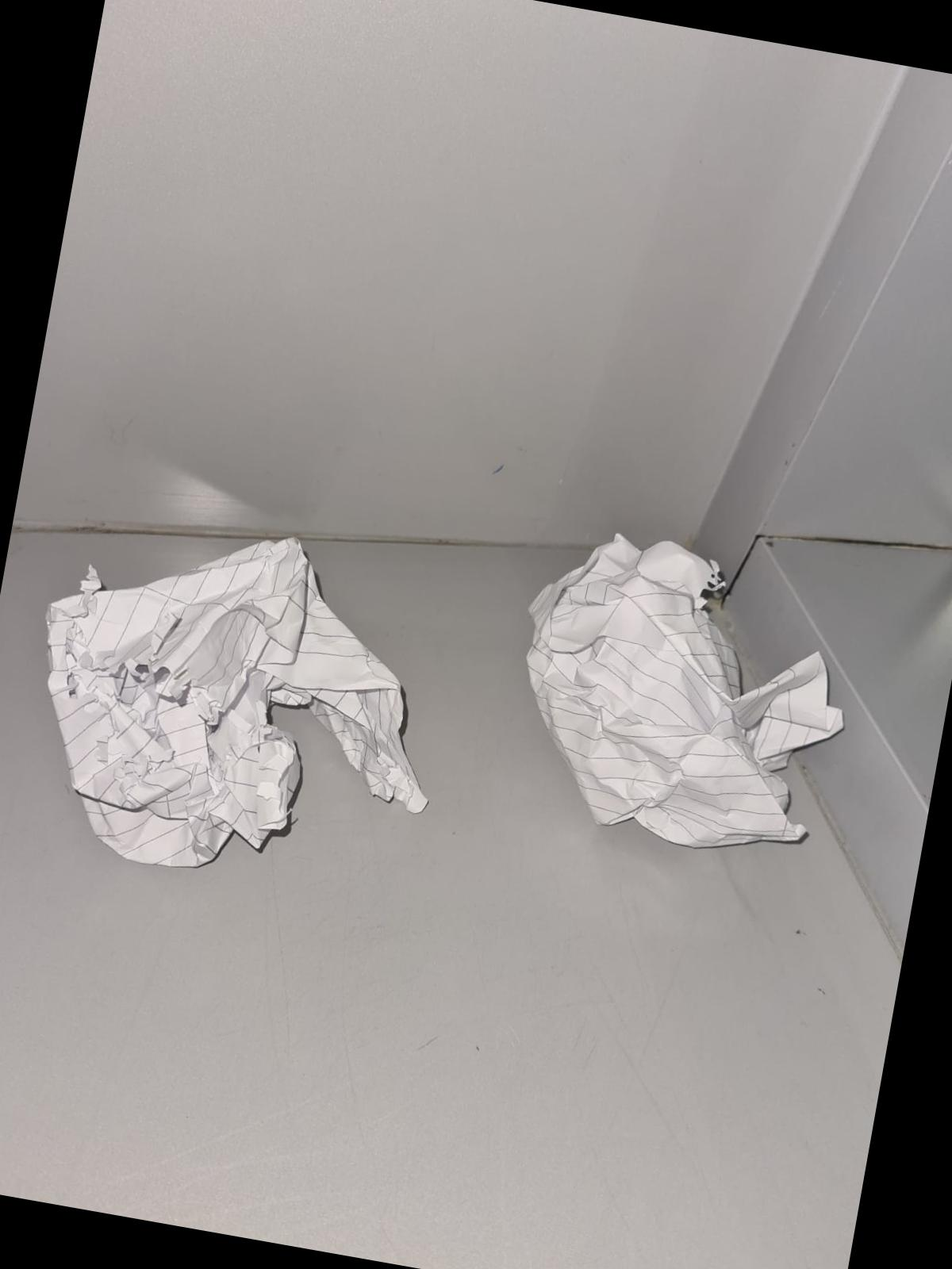Kertas: (47, 559, 408, 854), (544, 558, 801, 836)
